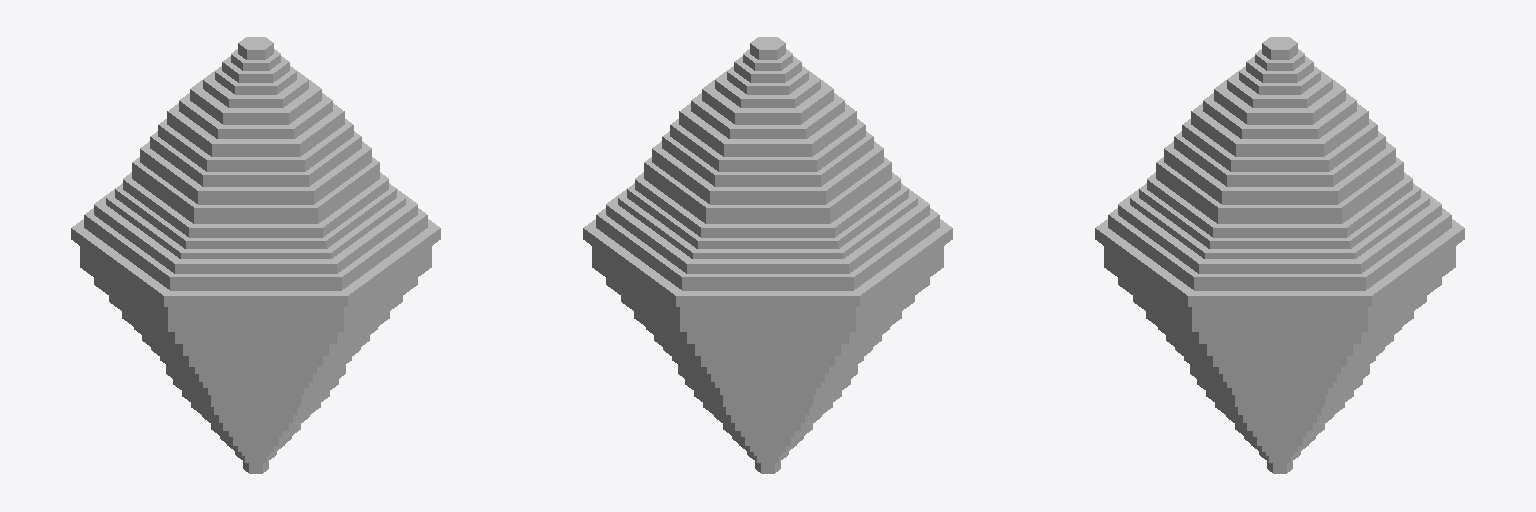
The model's file is diamond.obj.
The picture shows the model from 3 angles: view 1: azimuth 30°, elevation 25°; view 2: azimuth 150°, elevation 25°; view 3: azimuth 270°, elevation 25°; orthographic projection.
Visible parts, largest first — view 1: Mesh1 Model; view 2: Mesh1 Model; view 3: Mesh1 Model.
Part boxes in pixels (x1,y1,x2,y2): Mesh1 Model: (71,37,440,473); Mesh1 Model: (583,37,952,473); Mesh1 Model: (1095,37,1464,473).
Size of the model in its own units: 1.07 by 1.57 by 1.24.